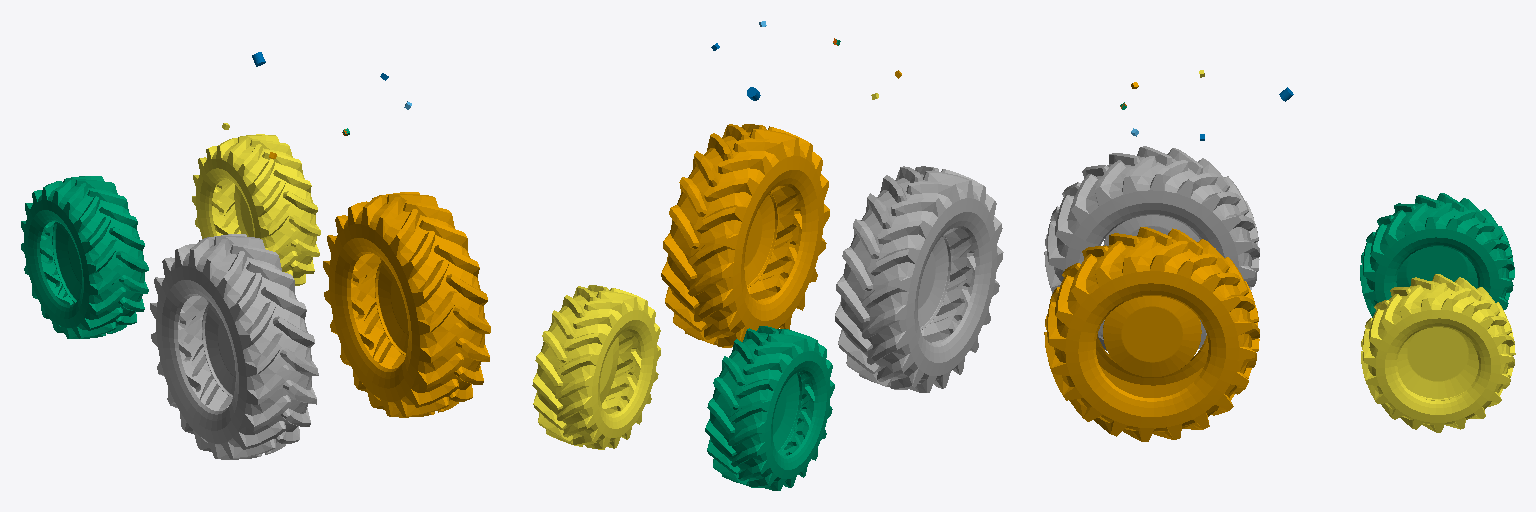
URDF robot description (vario700_sensorrig):
<?xml version="1.0" encoding="UTF-8"?>
<robot name="vario700_sensorrig">
  <joint name="sensorrig_joint" type="fixed">
    <origin xyz="0 -1.35969 2.89559" rpy="0 0 1.5707964"/>
    <parent link="base_link"/>
    <child link="sensorrig"/>
  </joint>

  <!-- OS-Sensor Links and Joints -->
  <!-- Currently just manually measured by aligning OS-Sensor Pointcloud with Fendt 724 model -->
  <joint name="joint_base_link-os_sensor" type="fixed">
    <!-- Last manual align on barn: <origin xyz="0.0 0.26 2.98" rpy="0 -0.802851 -1.570796"/> -->
    <origin xyz="0.10 0.26 2.98" rpy="0 -0.812851 -1.570796"/>
    <parent link="base_link"/>
    <child link="os_sensor"/>
  </joint>

  <joint name="os_sensor_to_os_lidar" type="fixed">
    <origin xyz="0 0 0.038195" rpy="0 0 0"/>
    <parent link="os_sensor"/>
    <child link="os_lidar"/>
  </joint>

  <!-- From Ouster ROS Wrapper -->
  <joint name="os_imu_joint" type="fixed">
    <origin xyz="-0.002441 -0.009725 0.007533" rpy="0 -1.570796 0"/>
    <parent link="os_sensor"/>
    <child link="os_imu"/>
  </joint>

  <!-- Camera Links and Joints: Chain from Kalibr calibration -->
  <!-- Chain: os_sensor -> side_right -> rear_right -> rear_mid -> rear_left -> side_left -->
  <!-- rear_mid position preserved relative to os_sensor from previous calibration -->

  <!-- os_sensor -> side_right: Computed to maintain rear_mid's absolute position -->
  <joint name="joint_os_sensor-camera_side_right" type="fixed">
    <origin xyz="0.522142 0.877865 -0.631033" rpy="-2.27836 0.834522 0.0180667"/>
    <parent link="os_sensor"/>
    <child link="camera_side_right"/>
  </joint>

  <!-- side_right -> rear_right: From Kalibr cam1 T_cn_cnm1 (inverted) -->
  <joint name="joint_camera_side_right-camera_rear_right" type="fixed">
    <origin xyz="0.6585 0.0785 -0.1081" rpy="0.3517 0.4557 0.5183"/>
    <parent link="camera_side_right"/>
    <child link="camera_rear_right"/>
  </joint>

  <!-- rear_right -> rear_mid: From Kalibr cam2 T_cn_cnm1 (inverted) -->
  <joint name="joint_camera_rear_right-camera_rear_mid" type="fixed">
    <origin xyz="0.5371 0.2753 -0.4252" rpy="0.2365 0.7268 0.6693"/>
    <parent link="camera_rear_right"/>
    <child link="camera_rear_mid"/>
  </joint>

  <!-- rear_mid -> rear_left: From Kalibr cam3 T_cn_cnm1 (inverted) -->
  <joint name="joint_camera_rear_mid-camera_rear_left" type="fixed">
    <origin xyz="0.7371 0.0765 -0.0433" rpy="0.1261 0.7369 0.7252"/>
    <parent link="camera_rear_mid"/>
    <child link="camera_rear_left"/>
  </joint>

  <!-- rear_left -> side_left: From Kalibr cam4 T_cn_cnm1 (inverted) -->
  <joint name="joint_camera_rear_left-camera_side_left" type="fixed">
    <origin xyz="0.6224 0.1106 -0.2244" rpy="-0.2752 0.4740 0.2358"/>
    <parent link="camera_rear_left"/>
    <child link="camera_side_left"/>
  </joint>

  <!-- Blickfeld attached to rear_mid -->
  <joint name="joint_camera_rear_mid-blickfeld" type="fixed">
    <origin xyz="0.0 0.0 0.0" rpy="1.5708 0.0 -1.5708"/>
    <parent link="camera_rear_mid"/>
    <child link="Root"/>
  </joint>


  <!-- ZED Camera Links and Joints -->
  <!-- DEPRECATED -->
  <!-- Manually alligned ZED-Pointcloud with Fendt 724 model / Ouster-Pointcloud -->
  <!-- 
  <joint name="zed_camera_link_joint" type="fixed">
    <origin xyz="0.08 0.26  3.05" rpy="0.0 0.427851 1.570796"/>
    <parent link="base_link"/>
    <child link="zed_camera_link"/>
  </joint>
  -->

  <!-- NEW -->
  <!-- ICP-Registration of ZED-Pointcloud with Ouster-Pointcloud -->
  <!-- Right Camera Frames not included yet -->
  <joint name="zed_left_camera_joint" type="fixed">
    <parent link="os_sensor"/>
    <child link="zed_left_camera_frame"/>
    <!-- ICP from barn, seemed visually off -->
    <!-- <origin xyz="-0.017881 -0.118638 0.062218" rpy="-0.015401 -0.354727 -3.119028"/>  -->
    <!-- ICP Windrow 4 -->
    <!-- <origin xyz="-0.026789 -0.098001 0.035757" rpy="-0.019154 -0.401029 -3.126174"/>  -->
    <!-- ICP Garage -->
    <origin xyz="0.166753 -0.157008 -0.192582" rpy="-0.007683 -0.361936 -3.122481"/>
  </joint>

   <!-- From ZED ROS Wrapper -->
  <joint name="zed_left_camera_optical_frame_joint" type="fixed">
    <origin xyz="0 0 0" rpy="-1.57079632679 0 -1.57079632679"/>
    <parent link="zed_left_camera_frame"/>
    <child link="zed_left_camera_optical_frame"/>
  </joint>

  <joint name="zed_camera_center_joint" type="fixed">
    <origin xyz="0.010 -0.060 0.000" rpy="0 0 0"/>
    <parent link="zed_left_camera_frame"/>
    <child link="zed_camera_center"/>
  </joint>

  <joint name="zed_right_camera_joint" type="fixed">
    <origin xyz="-0.010 -0.060 0.000" rpy="0 0 0"/>
    <parent link="zed_camera_center"/>
    <child link="zed_right_camera_frame"/>
  </joint>

  <joint name="zed_camera_link_joint" type="fixed">
    <origin xyz="0 0 -0.015" rpy="0 0 0"/>
    <parent link="zed_camera_center"/>
    <child link="zed_camera_link"/>
  </joint>

  <joint name="zed_right_camera_optical_frame_joint" type="fixed">
    <origin xyz="0 0 0" rpy="-1.57079632679 0 -1.57079632679"/>
    <parent link="zed_right_camera_frame"/>
    <child link="zed_right_camera_optical_frame"/>
  </joint>




  <joint name="back_left_joint" type="fixed">
    <origin xyz="-0.929712 -1.05215 0.79196" rpy="0 0 3.1415927"/>
    <parent link="base_link"/>
    <child link="back_left_wheel"/>
  </joint>

  <joint name="back_right_joint" type="fixed">
    <origin xyz="0.929712 -1.05215 0.79196" rpy="0 0 3.1415927"/>
    <parent link="base_link"/>
    <child link="back_right_wheel"/>
  </joint>

  <joint name="front_left_joint" type="fixed">
    <origin xyz="-0.934094 1.72967 0.581455" rpy="0 0 3.1415927"/>
    <parent link="base_link"/>
    <child link="front_left_wheel"/>
  </joint>

  <joint name="front_right_joint" type="fixed">
    <origin xyz="0.934094 1.72967 0.581455" rpy="0 0 3.1415927"/>
    <parent link="base_link"/>
    <child link="front_right_wheel"/>
  </joint>

  <!-- Visual and Collision Links -->
  <!-- Added geometry to make it easier to visualize in Rviz -->
  <link name="camera_rear_left"><visual><geometry><box size="0.05 0.05 0.05"/></geometry></visual></link>
  <link name="camera_rear_right"><visual><geometry><box size="0.05 0.05 0.05"/></geometry></visual></link>
  <link name="camera_rear_mid"><visual><geometry><box size="0.05 0.05 0.05"/></geometry></visual></link>
  <link name="camera_side_left"><visual><geometry><box size="0.05 0.05 0.05"/></geometry></visual></link>
  <link name="camera_side_right"><visual><geometry><box size="0.05 0.05 0.05"/></geometry></visual></link>

  <link name="Root"><visual><geometry><box size="0.05 0.05 0.05"/></geometry></visual></link>

  <link name="zed_camera_link"></link>
  <link name="zed_camera_center"></link>
  <link name="zed_left_camera_frame"></link>
  <link name="zed_right_camera_frame"></link>
  <!-- <link name="zed_imu_link"></link> -->
  <link name="zed_left_camera_optical_frame"></link>
  <link name="zed_right_camera_optical_frame"></link>

  <link name="os_sensor"><visual><geometry><cylinder radius="0.05" length="0.1"/></geometry></visual></link>
  <link name="os_lidar"/>
  <link name="os_imu"/>


  <!-- Wheel Links and Joints -->
  <!-- Geometry is from Fendt 724 model Farming Simulator 22 -->
  <!-- Needs further refinement, especially in the mass and inertia -->
  <link name="back_left_wheel">
    <inertial><origin xyz="0 0 0" rpy="0 0 0"/><mass value="1"/><inertia ixx="0.01" ixy="0" ixz="0" iyy="0.01" iyz="0" izz="0.01"/></inertial>
    <visual><origin xyz="0 0 0" rpy="0 0 0"/><geometry><mesh filename="package://vario700_sensorrig/meshes/back_left_wheel_visuals.obj" scale="0.1 0.1 0.1"/></geometry></visual>
    <collision><origin xyz="0 0 0" rpy="0 0 0"/><geometry><mesh filename="package://vario700_sensorrig/meshes/back_left_wheel_collisions.obj" scale="0.1 0.1 0.1"/></geometry></collision>
  </link>

  <link name="back_right_wheel">
    <inertial><origin xyz="0 0 0" rpy="0 0 0"/><mass value="1"/><inertia ixx="0.01" ixy="0" ixz="0" iyy="0.01" iyz="0" izz="0.01"/></inertial>
    <visual><origin xyz="0 0 0" rpy="0 0 0"/><geometry><mesh filename="package://vario700_sensorrig/meshes/back_right_wheel_visuals.obj" scale="0.1 0.1 0.1"/></geometry></visual>
    <collision><origin xyz="0 0 0" rpy="0 0 0"/><geometry><mesh filename="package://vario700_sensorrig/meshes/back_right_wheel_collisions.obj" scale="0.1 0.1 0.1"/></geometry></collision>
  </link>

  <link name="base_link">
    <inertial><origin xyz="0 0 0" rpy="0 0 0"/><mass value="10"/><inertia ixx="1" ixy="0" ixz="0" iyy="1" iyz="0" izz="1"/></inertial>
    <visual><origin xyz="0 0 0" rpy="0 0 0"/><geometry><mesh filename="package://vario700_sensorrig/meshes/base_link_visuals.obj" scale="0.1 0.1 0.1"/></geometry></visual>
    <collision><origin xyz="0 0 0" rpy="0 0 0"/><geometry><mesh filename="package://vario700_sensorrig/meshes/base_link_collisions.obj" scale="0.1 0.1 0.1"/></geometry></collision>
  </link>

  <link name="front_left_wheel">
    <inertial><origin xyz="0 0 0" rpy="0 0 0"/><mass value="1"/><inertia ixx="0.01" ixy="0" ixz="0" iyy="0.01" iyz="0" izz="0.01"/></inertial>
    <visual><origin xyz="0 0 0" rpy="0 0 0"/><geometry><mesh filename="package://vario700_sensorrig/meshes/front_left_wheel_visuals.obj" scale="0.1 0.1 0.1"/></geometry></visual>
    <collision><origin xyz="0 0 0" rpy="0 0 0"/><geometry><mesh filename="package://vario700_sensorrig/meshes/front_left_wheel_collisions.obj" scale="0.1 0.1 0.1"/></geometry></collision>
  </link>

  <link name="front_right_wheel">
    <inertial><origin xyz="0 0 0" rpy="0 0 0"/><mass value="1"/><inertia ixx="0.01" ixy="0" ixz="0" iyy="0.01" iyz="0" izz="0.01"/></inertial>
    <visual><origin xyz="0 0 0" rpy="0 0 0"/><geometry><mesh filename="package://vario700_sensorrig/meshes/front_right_wheel_visuals.obj" scale="0.1 0.1 0.1"/></geometry></visual>
    <collision><origin xyz="0 0 0" rpy="0 0 0"/><geometry><mesh filename="package://vario700_sensorrig/meshes/front_right_wheel_collisions.obj" scale="0.1 0.1 0.1"/></geometry></collision>
  </link>

  <!-- Sensorrig Links and Joints -->
  <!-- Handmade CAD Model -->
  <link name="sensorrig">
    <inertial><origin xyz="0 0 0" rpy="0 0 0"/><mass value="2"/><inertia ixx="0.1" ixy="0" ixz="0" iyy="0.1" iyz="0" izz="0.1"/></inertial>
    <visual><origin xyz="0 0 0" rpy="0 0 0"/><geometry><mesh filename="package://vario700_sensorrig/meshes/sensorrig_visuals.obj" scale="0.001 0.001 0.001"/></geometry></visual>
    <collision><origin xyz="0 0 0" rpy="0 0 0"/><geometry><mesh filename="package://vario700_sensorrig/meshes/sensorrig_collisions.obj" scale="0.001 0.001 0.001"/></geometry></collision>
  </link>
</robot>

--- Facts derived from the render (not from the file) ---
3 views of the same robot in one strip: view 1: azimuth 30°, elevation 25°; view 2: azimuth 150°, elevation 25°; view 3: azimuth 270°, elevation 25° (orthographic).
Model vario700_sensorrig with 21 links and 20 joints (20 fixed), rooted at base_link, posed every joint at zero.
Links seen in each view (by area): view 1: back_left_wheel, back_right_wheel, front_left_wheel, front_right_wheel; view 2: back_left_wheel, back_right_wheel, front_right_wheel, front_left_wheel; view 3: back_right_wheel, front_right_wheel, back_left_wheel, front_left_wheel.
Link boxes in pixels (<box>): back_left_wheel: <box>150,234,318,459</box>; back_right_wheel: <box>323,192,490,417</box>; front_left_wheel: <box>21,176,148,338</box>; front_right_wheel: <box>192,134,320,285</box>; back_left_wheel: <box>835,166,1003,392</box>; back_right_wheel: <box>661,124,829,347</box>; front_right_wheel: <box>532,285,660,449</box>; front_left_wheel: <box>705,326,834,490</box>; back_right_wheel: <box>1044,227,1259,441</box>; front_right_wheel: <box>1361,274,1515,432</box>; back_left_wheel: <box>1044,146,1259,350</box>; front_left_wheel: <box>1360,193,1514,317</box>.
Bounding box of the posed robot: 2.59 × 4.59 × 3.31 m (x, y, z).
Meshes: 6 distinct files referenced, 4 mesh visuals loaded (4 OBJ); not drawn: 2 (reference not matched to a file when rendering).